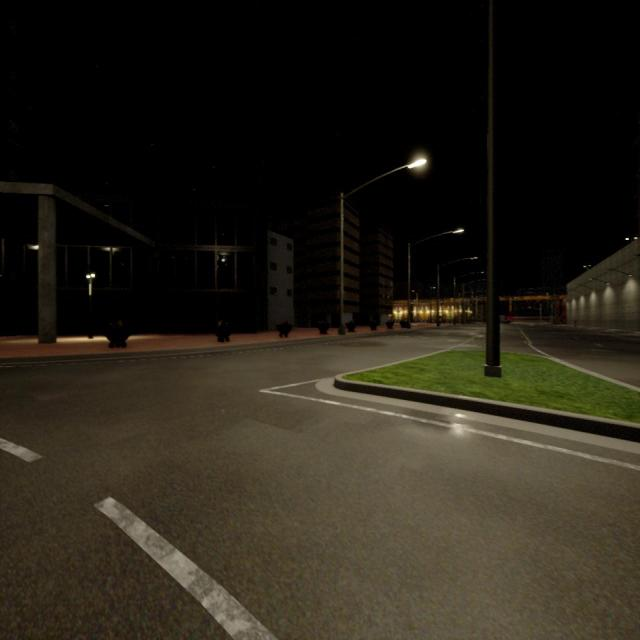Vehicle: (500, 315, 510, 323)
traffic_light: (526, 300, 529, 302), (537, 300, 539, 302)
